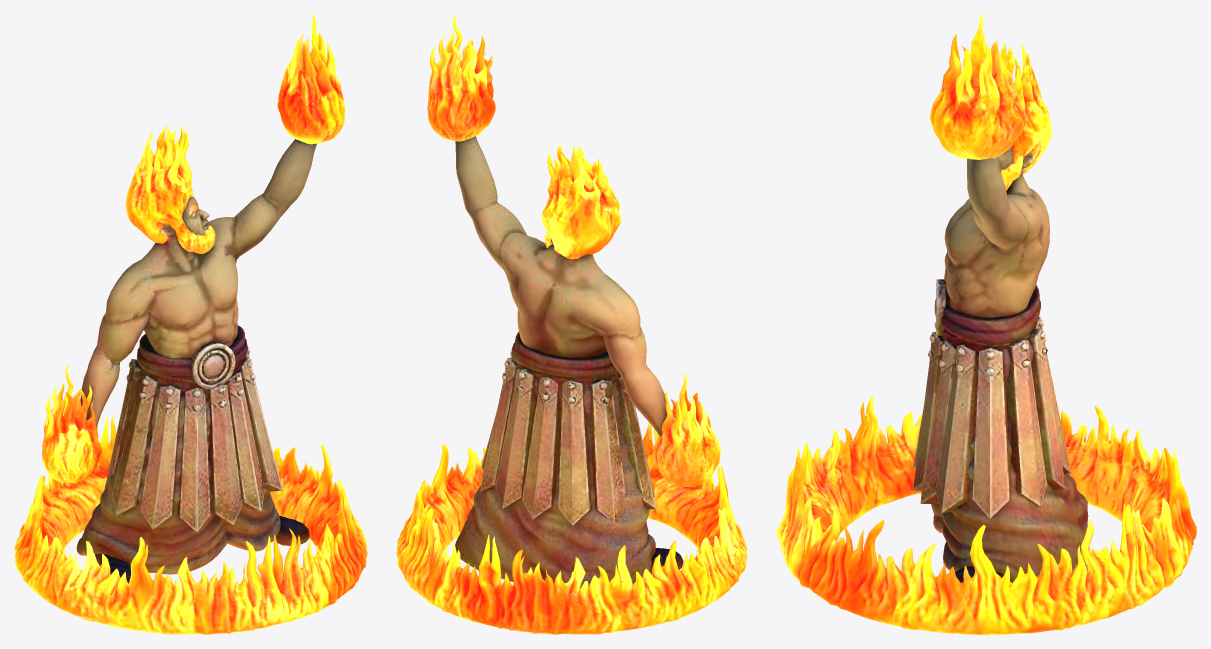
File: MZ4250 - Azer Pyromancer_2025.glb
The picture shows the model from 3 angles, left to right: view 1: azimuth 30°, elevation 25°; view 2: azimuth 150°, elevation 25°; view 3: azimuth 270°, elevation 25°; orthographic projection. The views are drawn at different scales.
Parts seen in each view (by area): view 1: Body.002; view 2: Body.002; view 3: Body.002.
Boxes of the visible parts, box(x1,y1,x2,y2) form: Body.002: box(14, 14, 367, 634); Body.002: box(396, 14, 747, 634); Body.002: box(776, 14, 1196, 634).
Bounding box in the file's own units: 62.84 × 103 × 64.91.
Materials: 1 (1 with a texture image).
